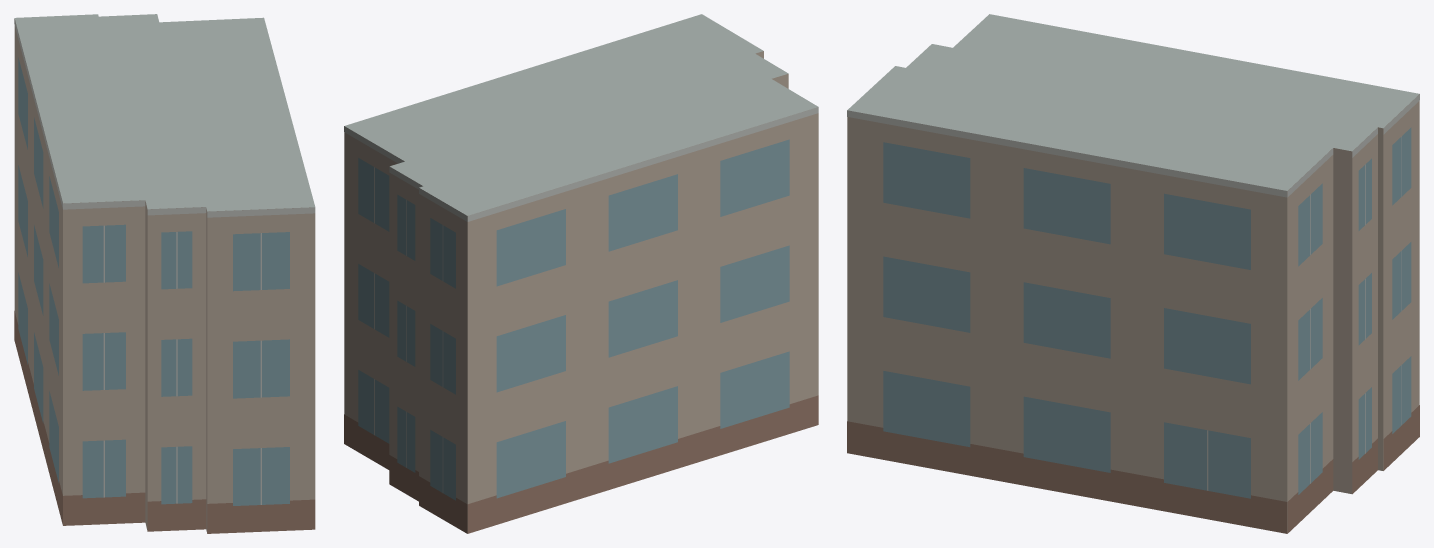
Rendered from survey-upis-32580510.glb.
The picture shows the model from 3 angles, left to right: view 1: azimuth 30°, elevation 25°; view 2: azimuth 150°, elevation 25°; view 3: azimuth 270°, elevation 25°; orthographic projection. The views are drawn at different scales.
Parts seen in each view (by area): view 1: survey-upis-32580510.tmp; view 2: survey-upis-32580510.tmp; view 3: survey-upis-32580510.tmp.
Part boxes in pixels (left/top/right/bottom): survey-upis-32580510.tmp: left=14, top=14, right=315, bottom=533; survey-upis-32580510.tmp: left=344, top=14, right=818, bottom=533; survey-upis-32580510.tmp: left=847, top=14, right=1419, bottom=533.
Bounding box in the file's own units: 14.06 × 12.69 × 19.23.
